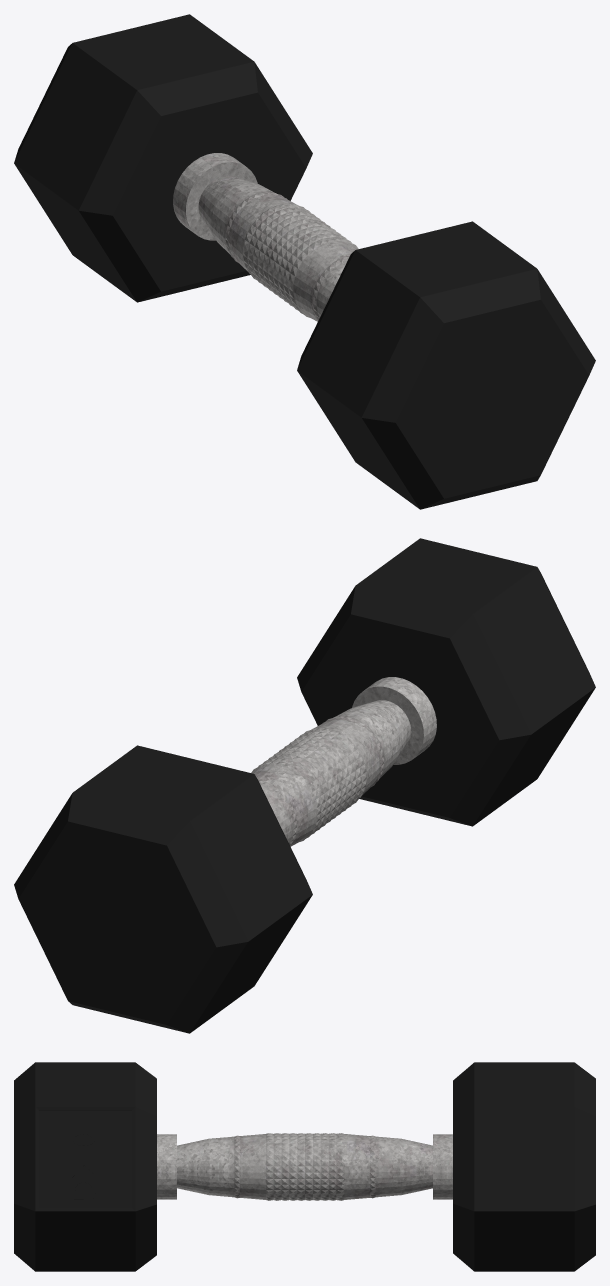
File: small-dumbbell.glb
The picture shows the model from 3 angles, top to bottom: view 1: azimuth 30°, elevation 25°; view 2: azimuth 150°, elevation 25°; view 3: azimuth 270°, elevation 25°; orthographic projection. The views are drawn at different scales.
Visible parts, largest first — view 1: Object_4, Object_5; view 2: Object_4, Object_5; view 3: Object_4, Object_5.
Part boxes in pixels (x1=…): Object_4: x1=14, y1=14, x2=595, y2=509; Object_5: x1=173, y1=153, x2=358, y2=321; Object_4: x1=14, y1=538, x2=595, y2=1033; Object_5: x1=251, y1=677, x2=436, y2=846; Object_4: x1=14, y1=1062, x2=595, y2=1271; Object_5: x1=157, y1=1133, x2=452, y2=1200.
Size of the model in its own units: 6.34 by 5.49 by 17.58.
Materials: 2 (1 with a texture image).
